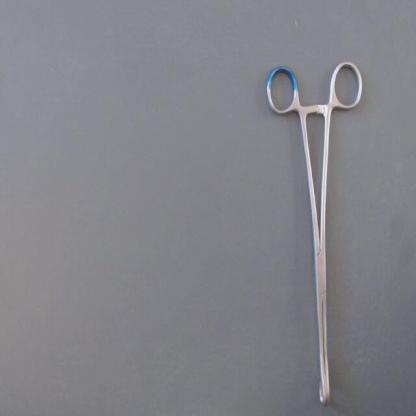Sponge Forceps: (260, 53, 368, 411)
